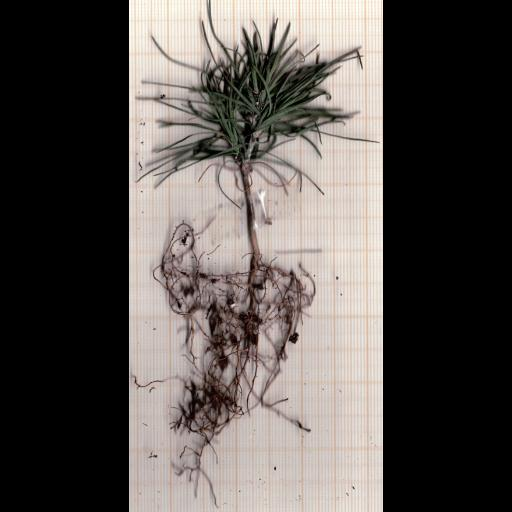flowerCedr: (143, 0, 363, 186)
rootCedr: (153, 223, 315, 477)
stemCedr: (239, 163, 261, 261)
